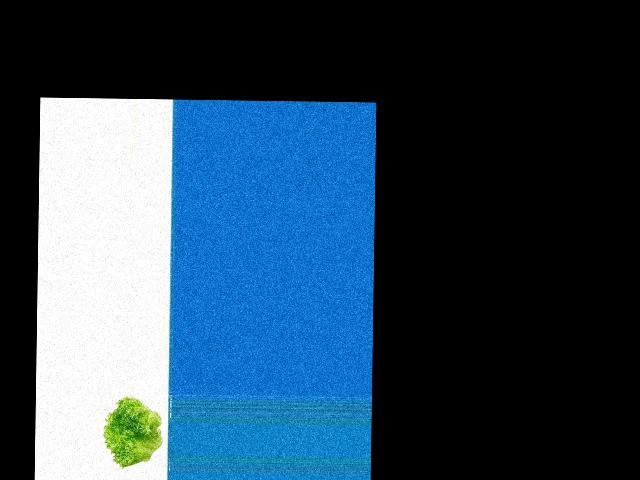lettuce: (101, 396, 167, 466)
